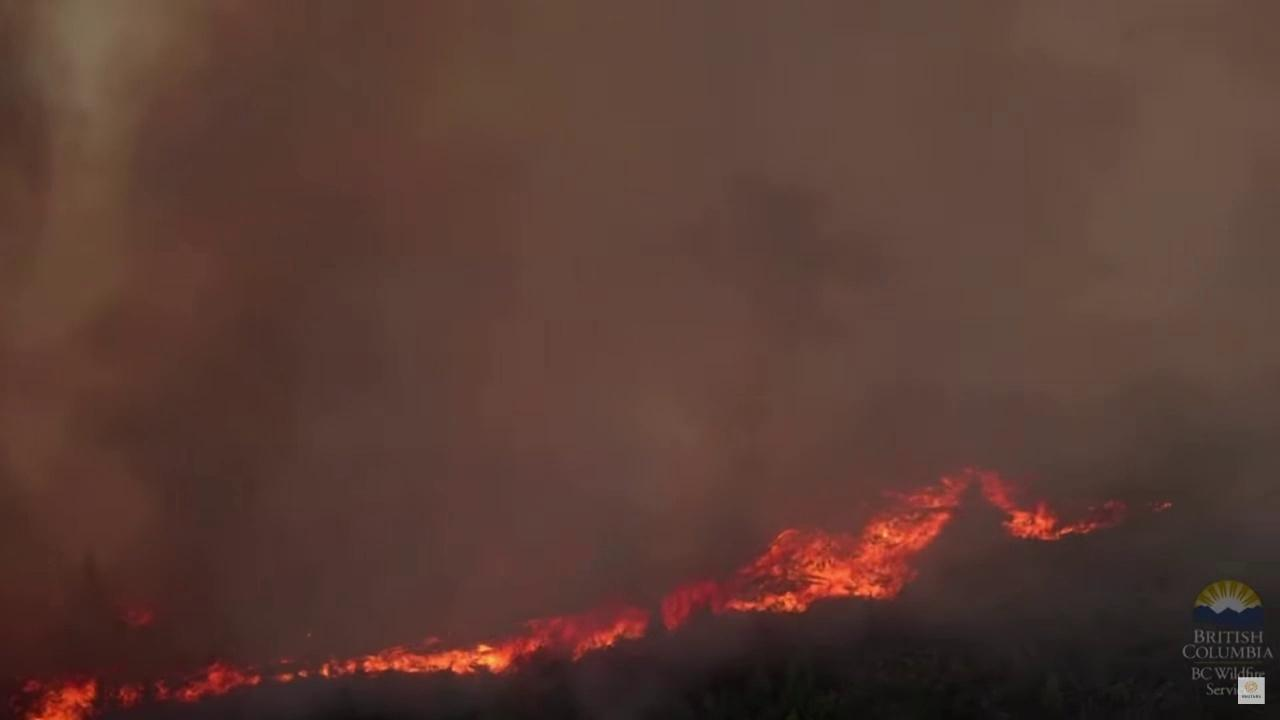fire: (0, 459, 1134, 720), (1145, 498, 1173, 515)
smoke: (0, 0, 1280, 720)
